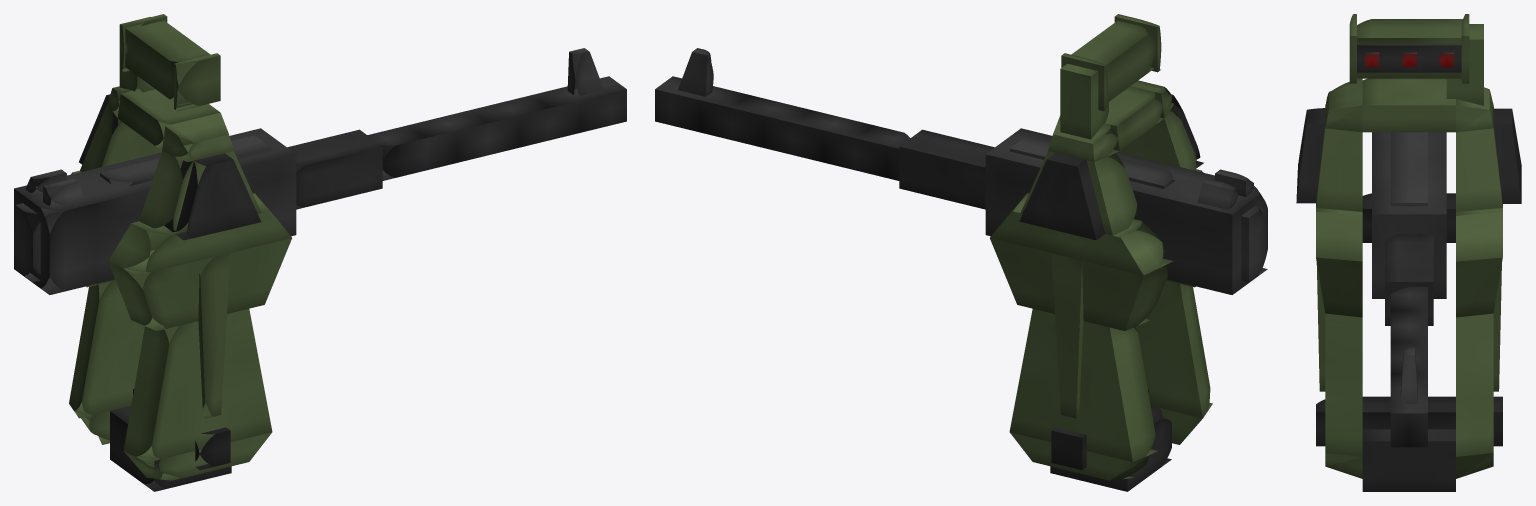
The model's file is turret_head.obj.
The picture shows the model from 3 angles, left to right: view 1: azimuth 30°, elevation 25°; view 2: azimuth 150°, elevation 25°; view 3: azimuth 270°, elevation 25°; orthographic projection. The views are drawn at different scales.
Parts seen in each view (by area): view 1: ammoModel3, ammoModel16, ammoModel18, ammoModel5, ammoModel4, ammoModel7, ammoModel17, ammoModel14, ammoModel30, ammoModel20, ammoModel10, ammoModel13 (+11 smaller); view 2: ammoModel4, ammoModel16, ammoModel18, ammoModel6, ammoModel3, ammoModel17, ammoModel8, ammoModel15, ammoModel29, ammoModel20, ammoModel9, ammoModel21 (+13 smaller); view 3: ammoModel16, ammoModel3, ammoModel4, ammoModel18, ammoModel0, ammoModel13, ammoModel10, ammoModel9, ammoModel20, ammoModel17, ammoModel28, gunModel4 (+18 smaller).
Part boxes in pixels (box(x1,y1,x2,y2)): ammoModel3: box(123, 309, 272, 461); ammoModel16: box(14, 128, 296, 294); ammoModel18: box(367, 76, 626, 180); ammoModel5: box(108, 238, 291, 330); ammoModel4: box(69, 280, 144, 418); ammoModel7: box(108, 193, 291, 275); ammoModel17: box(287, 129, 382, 209); ammoModel14: box(164, 153, 260, 240); ammoModel30: box(198, 253, 230, 418); ammoModel20: box(125, 20, 210, 105); ammoModel10: box(139, 143, 261, 235); ammoModel13: box(117, 89, 220, 150); ammoModel4: box(1009, 309, 1157, 461); ammoModel16: box(985, 128, 1267, 294); ammoModel18: box(655, 76, 910, 180); ammoModel6: box(990, 238, 1167, 330); ammoModel3: box(1135, 280, 1212, 418); ammoModel17: box(899, 129, 994, 209); ammoModel8: box(990, 193, 1173, 275); ammoModel15: box(1019, 153, 1105, 240); ammoModel29: box(1051, 253, 1083, 418); ammoModel20: box(1071, 20, 1154, 102); ammoModel9: box(1020, 150, 1142, 235); ammoModel21: box(1060, 63, 1108, 139); ammoModel16: box(1372, 132, 1446, 298); ammoModel3: box(1325, 313, 1362, 456); ammoModel4: box(1456, 313, 1493, 456); ammoModel18: box(1390, 287, 1427, 447); ammoModel0: box(1362, 429, 1455, 491); ammoModel13: box(1362, 78, 1455, 132); ammoModel10: box(1316, 125, 1362, 211); ammoModel9: box(1456, 107, 1502, 211); ammoModel20: box(1357, 19, 1462, 78); ammoModel17: box(1385, 234, 1433, 325); ammoModel28: box(1316, 396, 1502, 446); gunModel4: box(1390, 132, 1427, 206).
Bounding box in the file's own units: 19.25 × 13.2 × 6.02.
